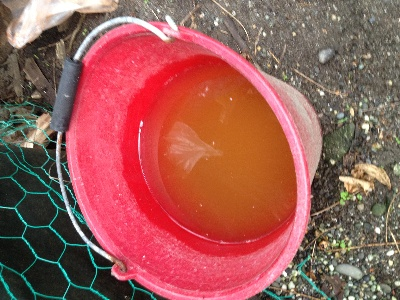bucket: (48, 15, 326, 300)
